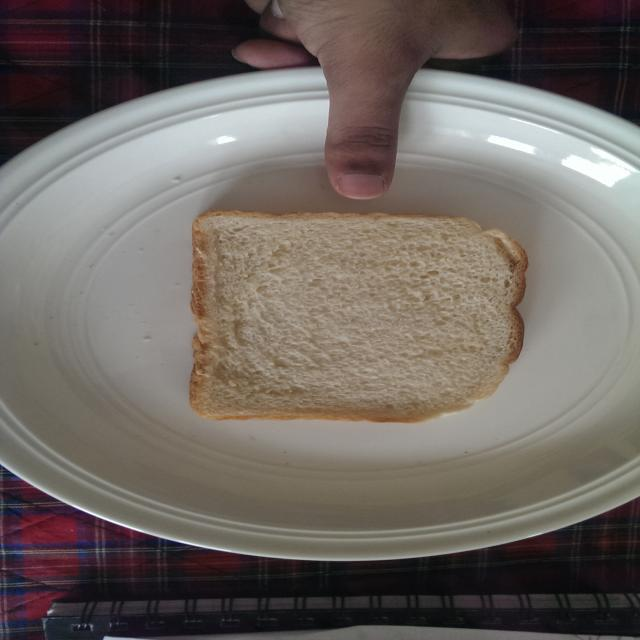Bread: (170, 206, 546, 428)
Finger: (308, 95, 426, 201)
